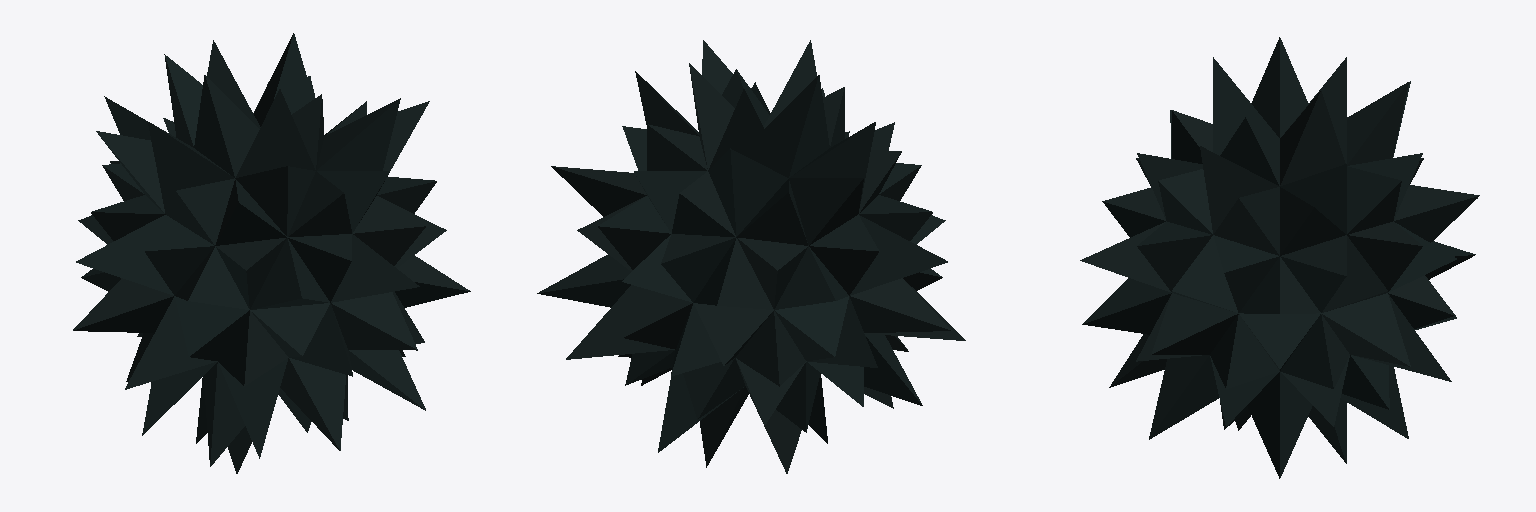
File: sea_urchin.obj
3 renders of one model, left to right at view 1: azimuth 30°, elevation 25°; view 2: azimuth 150°, elevation 25°; view 3: azimuth 270°, elevation 25°, orthographic.
Bounding box in the file's own units: 1.94 × 1.96 × 1.83.